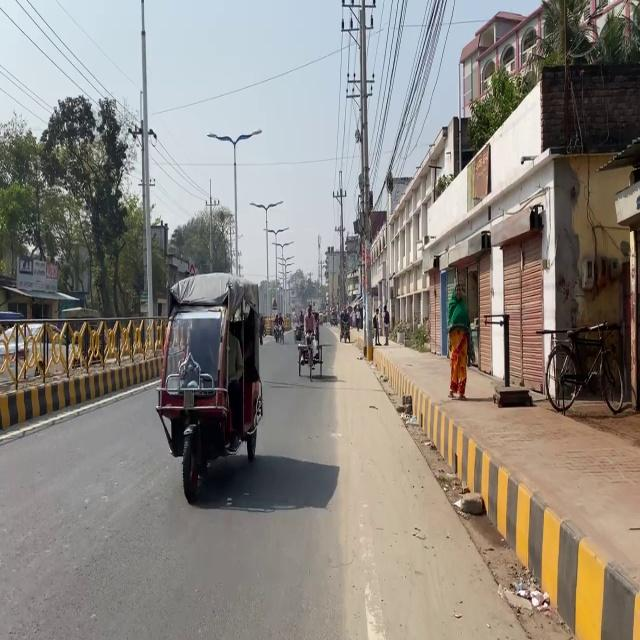Construction-barrier: (0, 373, 162, 444)
Fallen-tree: (295, 326, 323, 380), (272, 320, 284, 343), (293, 323, 303, 341)
Garbage: (493, 384, 532, 407)
Garbage-bin: (445, 283, 471, 400)
Light-pole: (138, 0, 154, 325)
Pole: (2, 298, 154, 442)
Pothole: (368, 318, 640, 619)
Traffic-cone: (154, 271, 264, 502)
